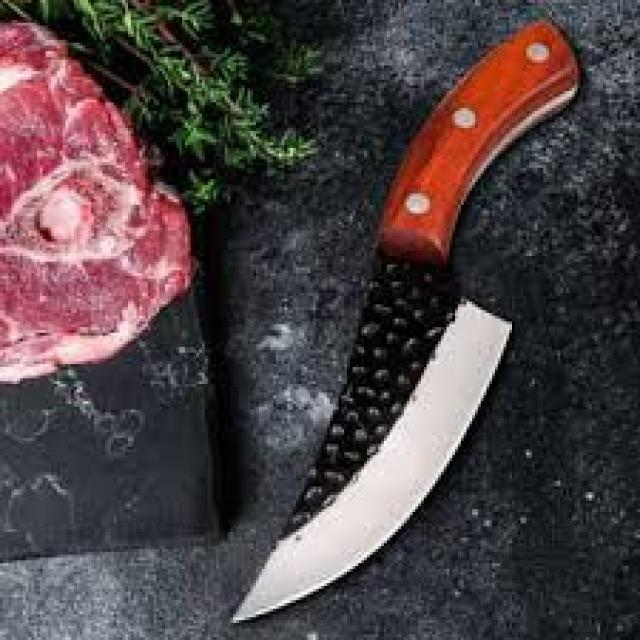Knife: (230, 16, 600, 634)
